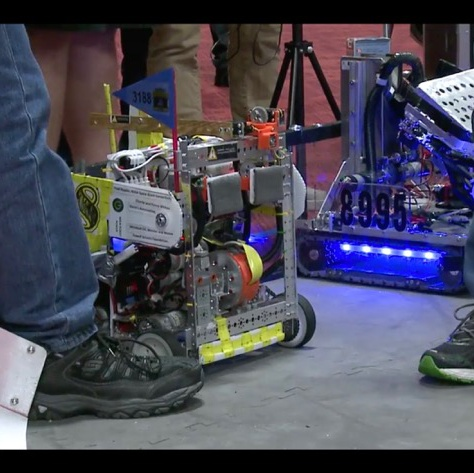robot: (76, 73, 322, 373), (290, 32, 474, 298)
